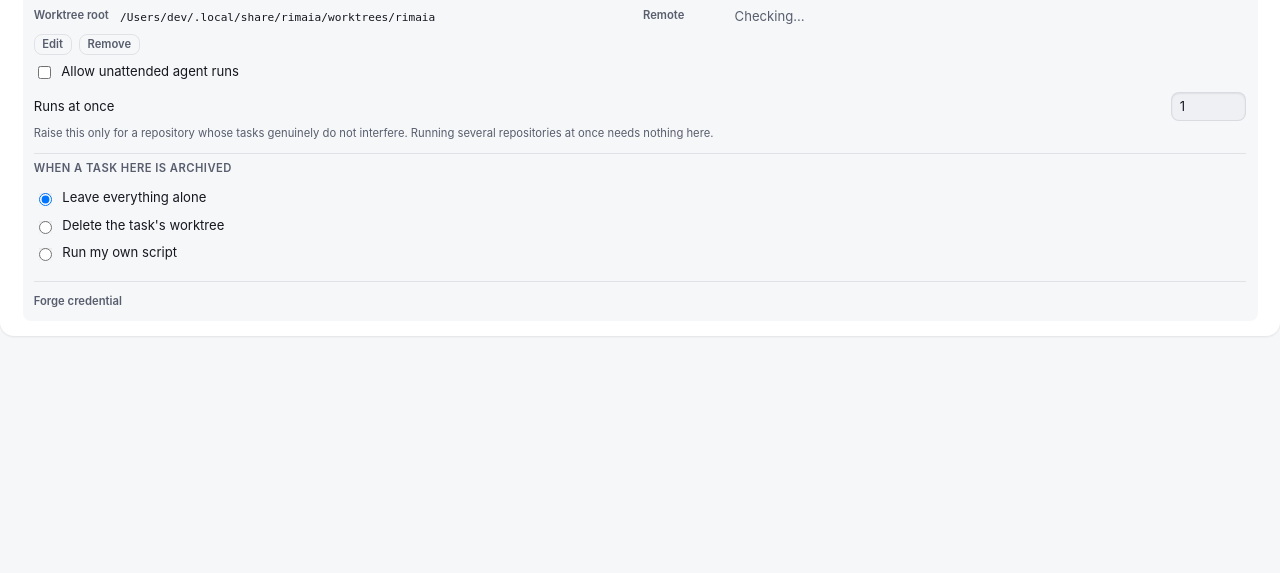
it: RepositoriesSection › defaults the unattended opt-in to off and requires confirming the honest warning before enabling it
This screenshot has width=1280, height=573.
Click the checkbox labelled "Allow unattended agent runs": [44, 72] box [38, 66, 51, 79]
(page scrolled)
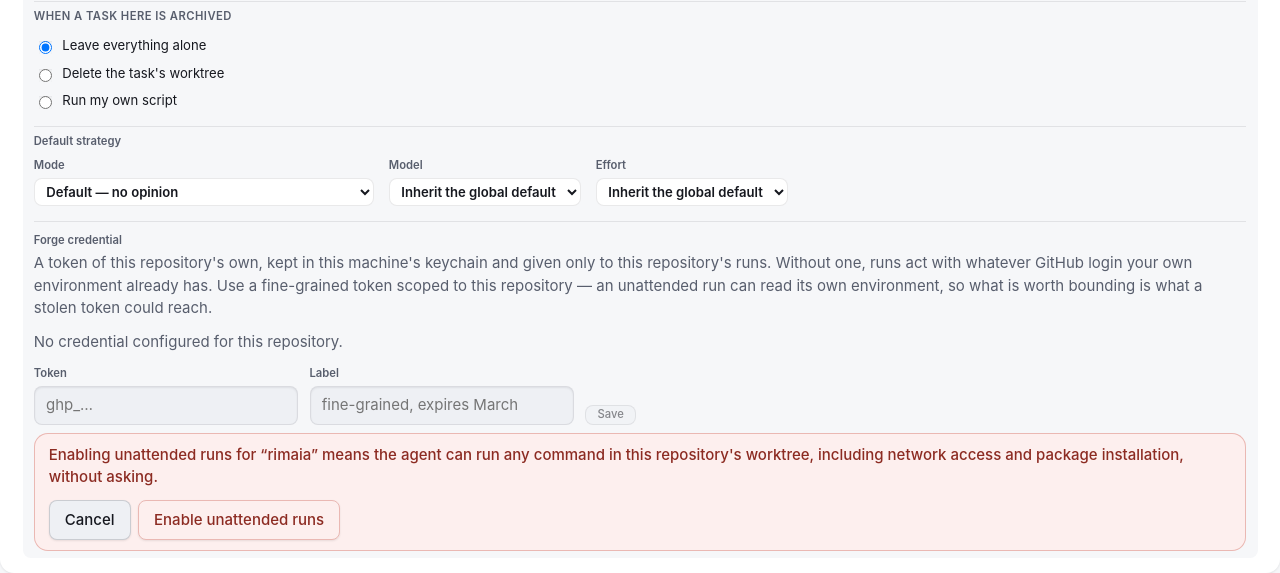
expect the dialog shows "the agent can run any command in this repository's worktree, including network access and package installation, without asking.": met, box [49, 445, 1184, 486]
Cancelling never calls the backend, and the checkbox stays off.
Click the button "Cancel": [90, 520] box [49, 500, 131, 540]
(page scrolled)
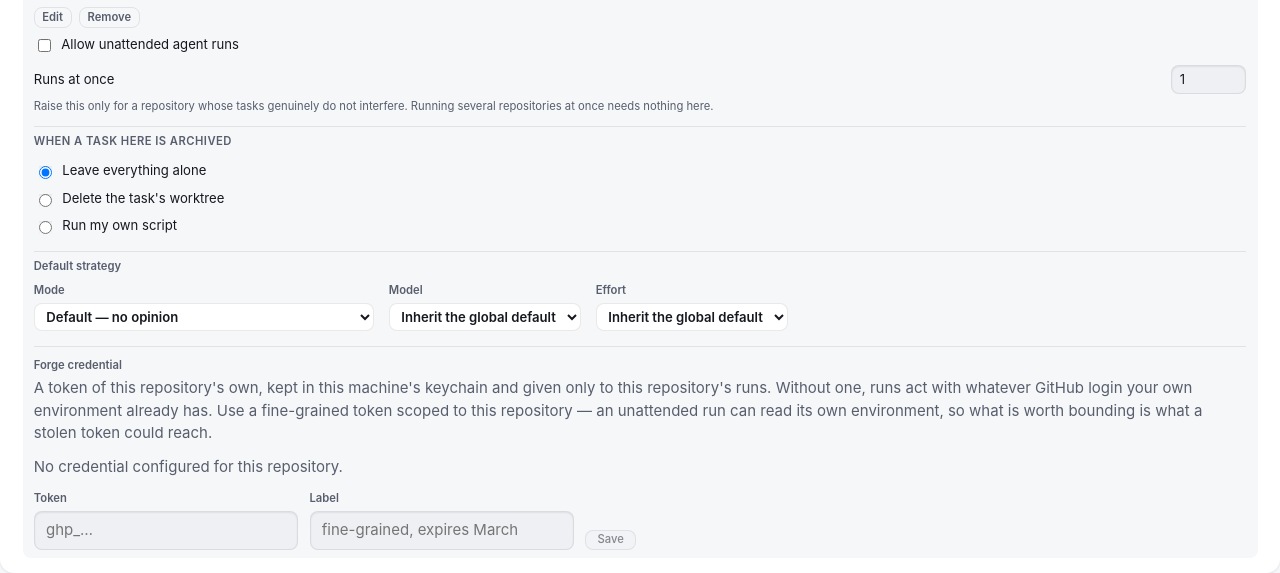
expect the checkbox labelled "Allow unattended agent runs" is not checked: met, box [38, 39, 51, 52]
expect the dialog is gone: met
